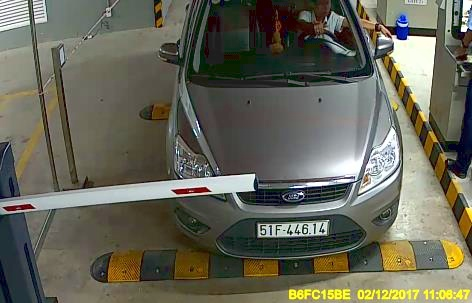plate: (255, 217, 331, 238)
